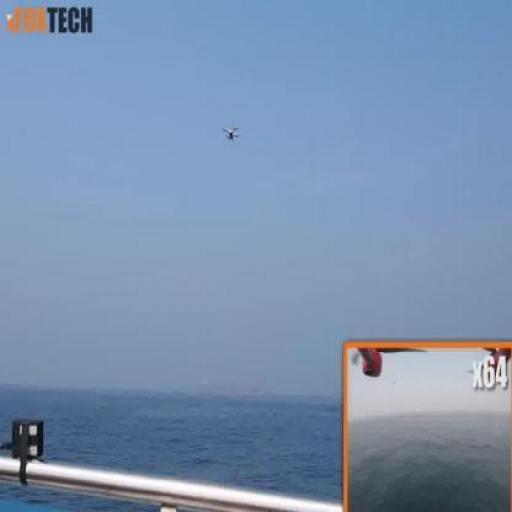drone: (218, 122, 244, 146)
